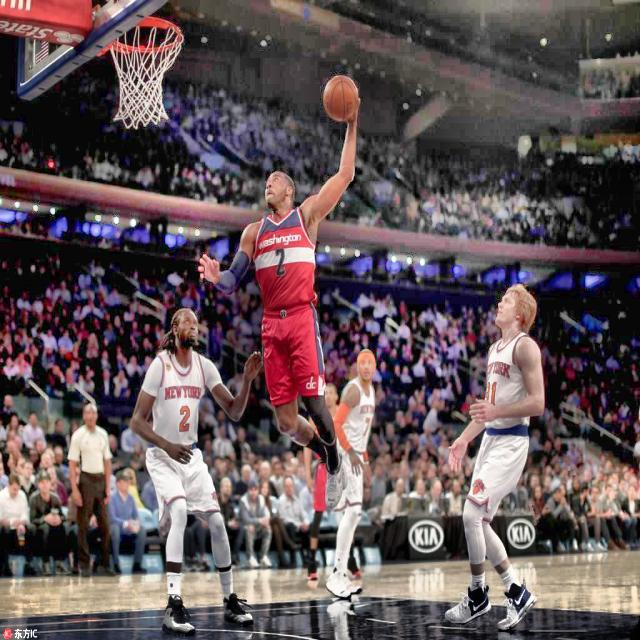board: (322, 76, 360, 123)
rim: (107, 17, 184, 126)
